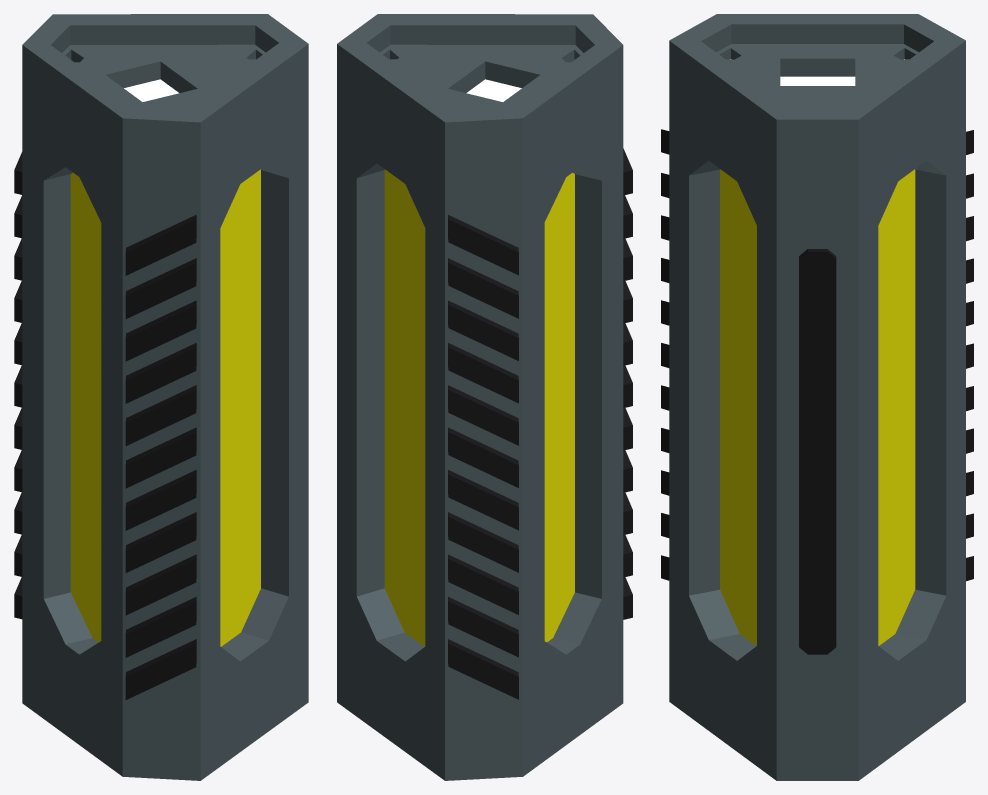
The model's file is SM_Uranium_cell.glb.
3 renders of one model, left to right at view 1: azimuth 30°, elevation 25°; view 2: azimuth 150°, elevation 25°; view 3: azimuth 270°, elevation 25°, orthographic.
Parts seen in each view (by area): view 1: SM_Uranium_cell; view 2: SM_Uranium_cell; view 3: SM_Uranium_cell.
Part boxes in pixels (bbox=[...]): SM_Uranium_cell: bbox=[14, 14, 308, 780]; SM_Uranium_cell: bbox=[337, 14, 632, 780]; SM_Uranium_cell: bbox=[661, 14, 973, 780].
Bounding box in the file's own units: 0.25 × 0.7 × 0.3.
2 materials, 1 textured.
